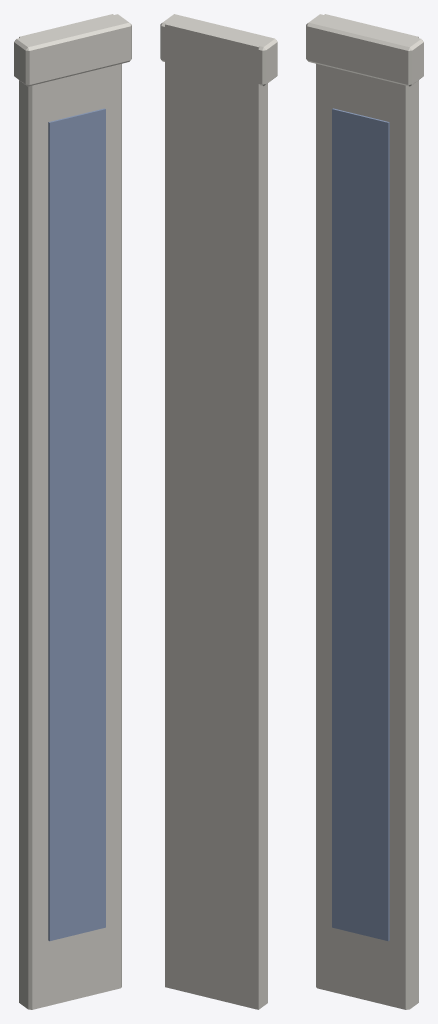
The model's file is pilaster_u_d.glb.
3 views of the same model, side by side, from view 1: azimuth 30°, elevation 25°; view 2: azimuth 150°, elevation 25°; view 3: azimuth 330°, elevation 25° (orthographic).
Visible parts, largest first — view 1: pilaster_u_d_trim, pilaster_u_d_acc_d; view 2: pilaster_u_d_trim; view 3: pilaster_u_d_trim, pilaster_u_d_acc_d.
Part boxes in pixels (x1,y1,x2,y2): pilaster_u_d_trim: (14, 14, 131, 1009); pilaster_u_d_acc_d: (48, 108, 105, 941); pilaster_u_d_trim: (160, 14, 277, 1009); pilaster_u_d_trim: (306, 14, 423, 1009); pilaster_u_d_acc_d: (332, 108, 389, 941).
Size of the model in its own units: 0.34 by 2.95 by 0.08.
